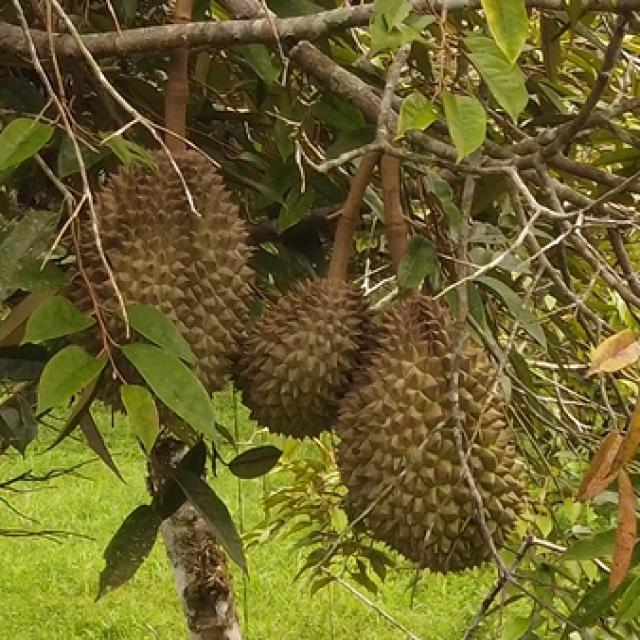mature: (102, 150, 253, 391)
